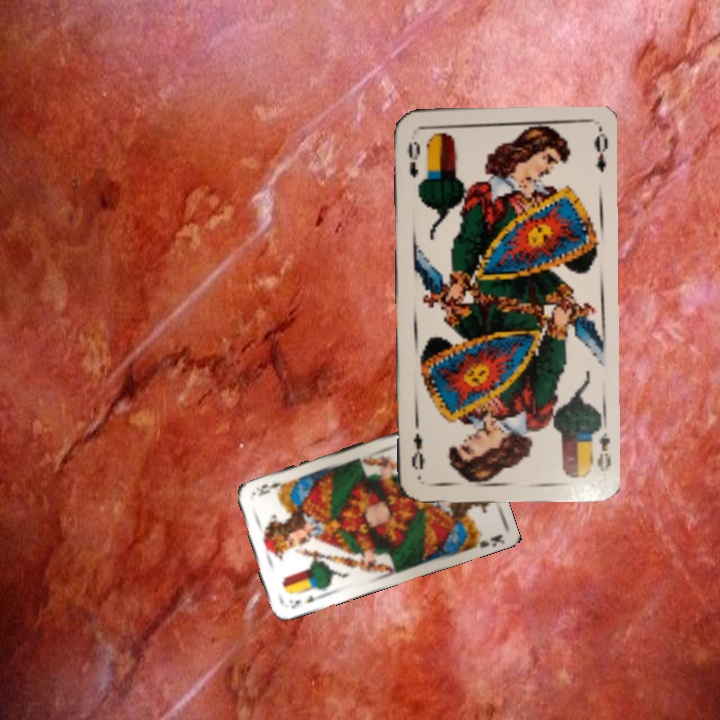EK: (285, 590, 324, 611)
EO: (593, 428, 613, 475), (404, 137, 423, 180)
